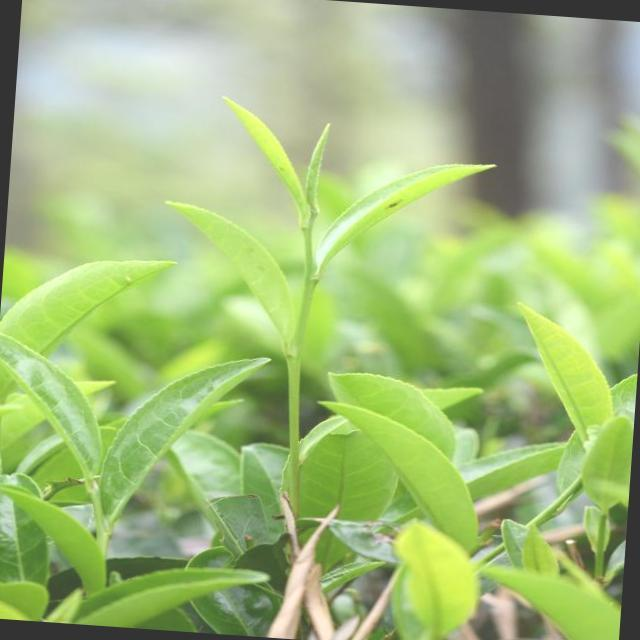Stem: (303, 228, 312, 244)
